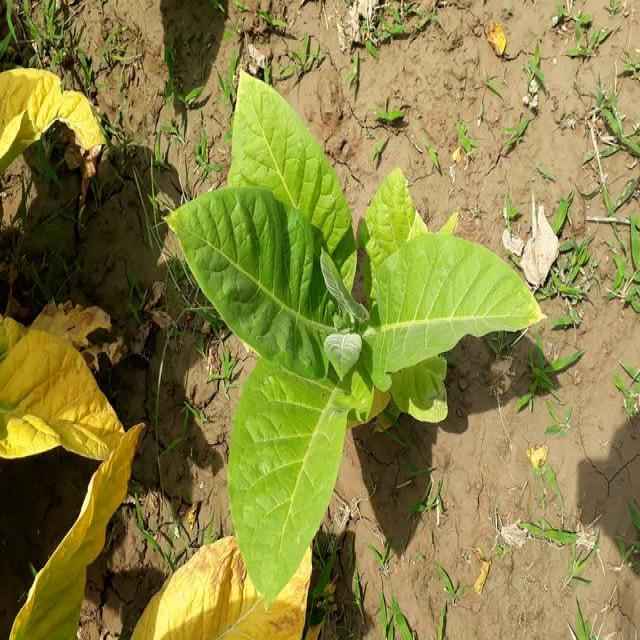crop: (168, 73, 550, 580), (14, 430, 142, 640), (143, 505, 312, 640), (0, 314, 115, 462), (0, 63, 96, 159)
